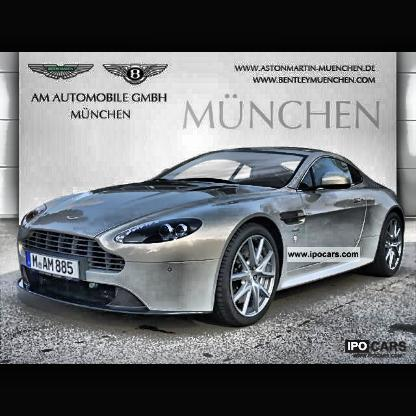Aston Martin V8 Vantage Coupe 2012: (17, 150, 407, 329)
